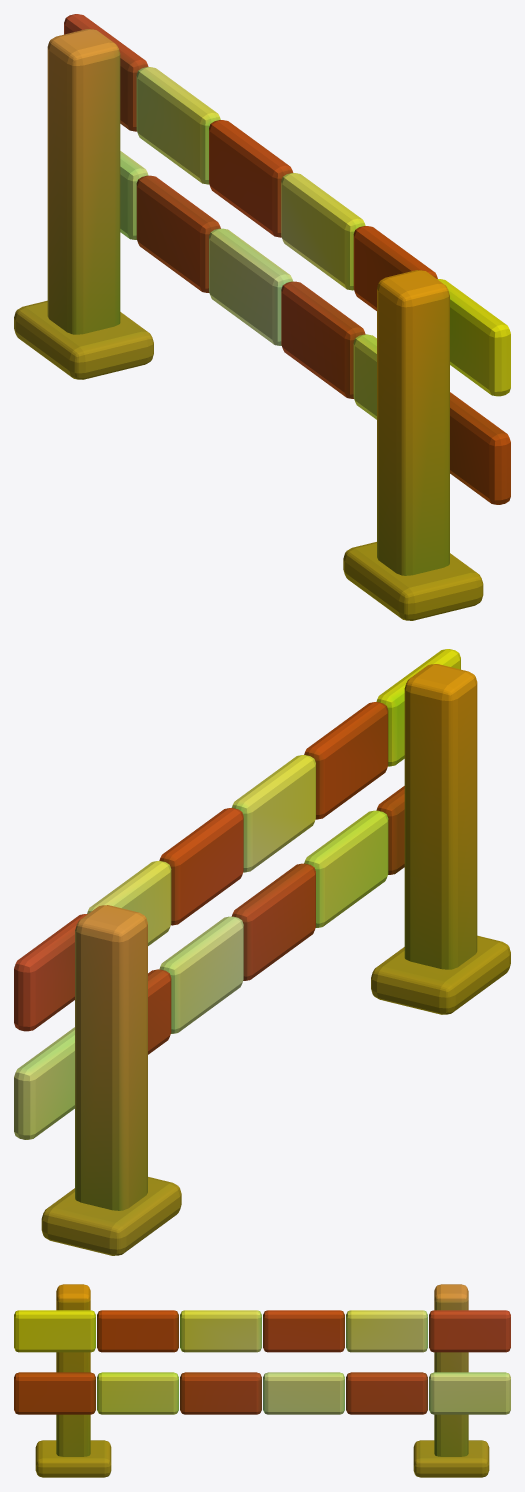
File: Prop_Barrier.fbx
The picture shows the model from 3 angles, top to bottom: view 1: azimuth 30°, elevation 25°; view 2: azimuth 150°, elevation 25°; view 3: azimuth 270°, elevation 25°; orthographic projection. The views are drawn at different scales.
Visible parts, largest first — view 1: Prop_Barrier; view 2: Prop_Barrier; view 3: Prop_Barrier.
Boxes of the visible parts, left/top/right/bottom form: Prop_Barrier: left=14, top=14, right=510, bottom=620; Prop_Barrier: left=14, top=649, right=510, bottom=1255; Prop_Barrier: left=14, top=1284, right=510, bottom=1477.
Bounding box in the file's own units: 0.35 × 1.15 × 2.89.
